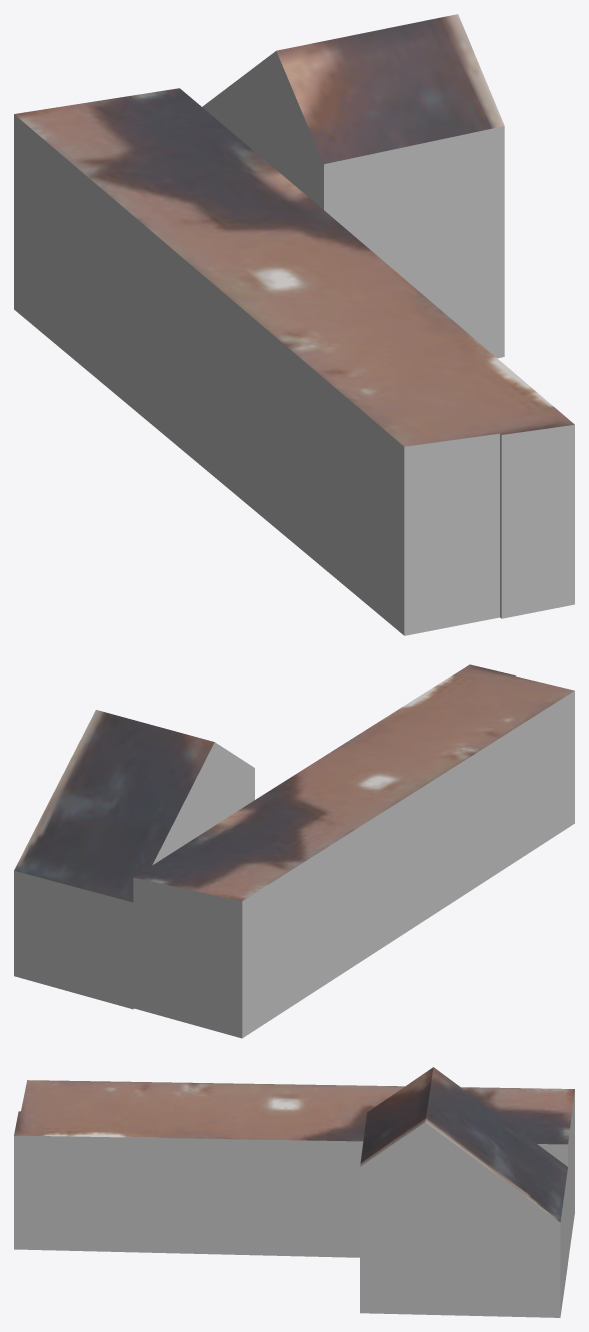
Rendered from DEBW_0010007Tx7I.gltf.
3 renders of one model, top to bottom at view 1: azimuth 30°, elevation 25°; view 2: azimuth 150°, elevation 25°; view 3: azimuth 270°, elevation 25°, orthographic. The views are drawn at different scales.
Visible parts, largest first — view 1: Z_UP; view 2: Z_UP; view 3: Z_UP.
Boxes of the visible parts, x1=… form: Z_UP: x1=14, y1=14, x2=574, y2=635; Z_UP: x1=14, y1=664, x2=574, y2=1038; Z_UP: x1=14, y1=1067, x2=574, y2=1317.
Size of the model in its own units: 14.43 by 11.14 by 29.26.
2 materials, 1 textured.
